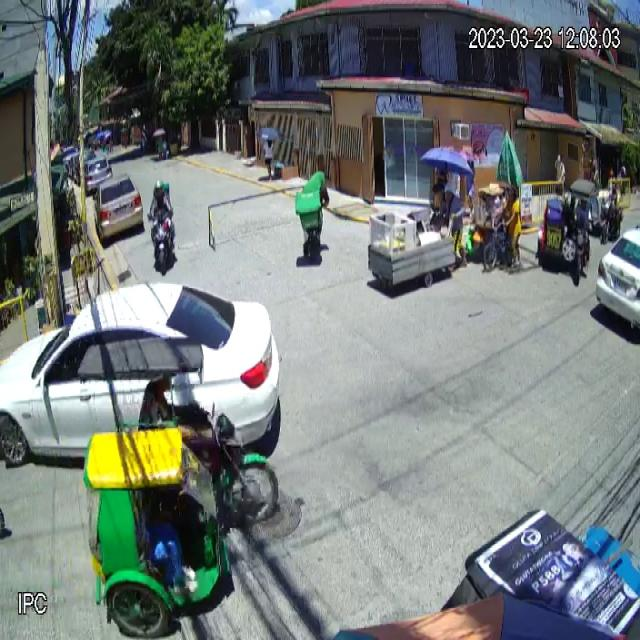Car: (0, 285, 279, 468), (93, 174, 143, 239)
Tricycle: (69, 337, 279, 640), (536, 179, 596, 285)
